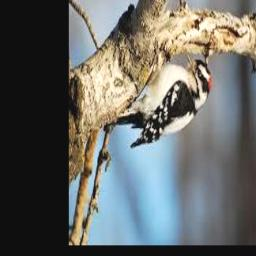Woodpecker: (110, 51, 211, 148)
